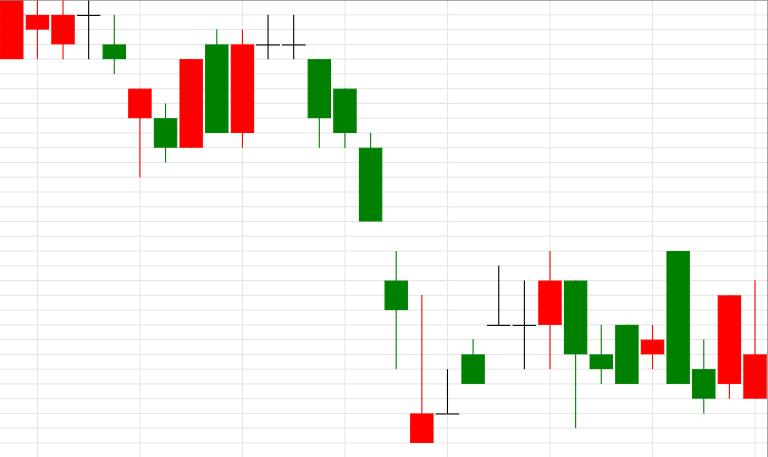hammer_rise: (0, 0, 151, 178)
inverse_hammer_rise: (257, 15, 433, 443)
